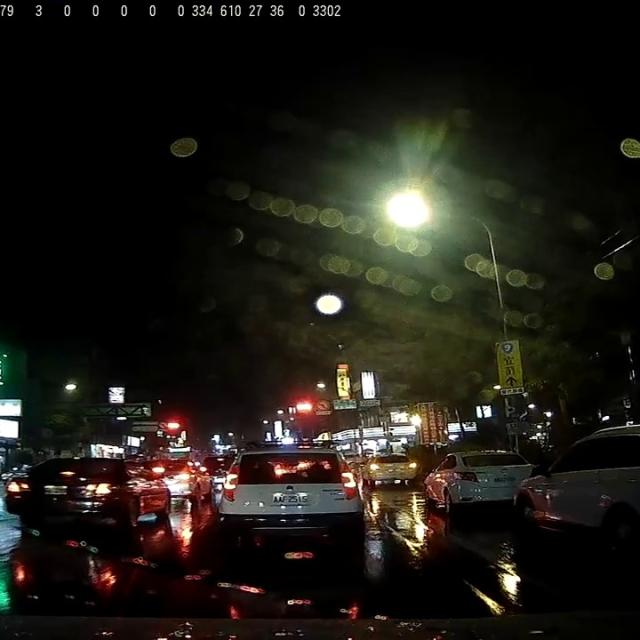Car: (210, 438, 366, 545), (518, 422, 639, 547), (0, 451, 170, 529), (419, 446, 538, 518), (154, 460, 214, 502), (360, 453, 418, 483)
